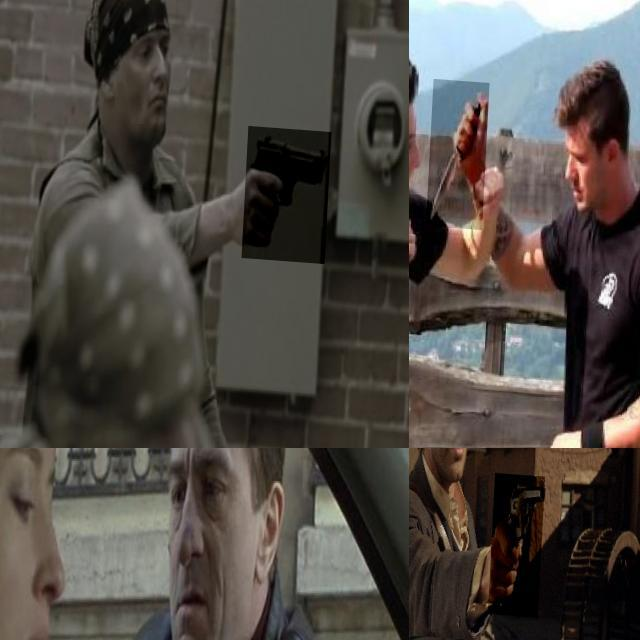-: (429, 74, 491, 224)
gun-knife-thesis - v11 Yolov5 augmented: (245, 120, 333, 258), (492, 470, 548, 614)
